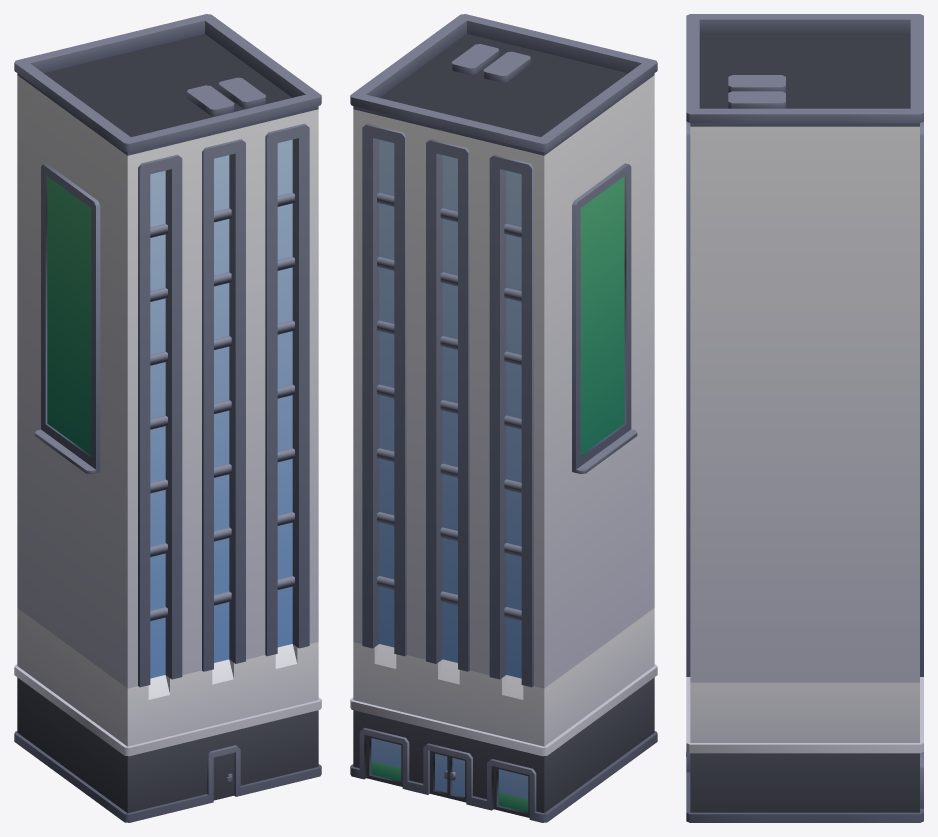
File: building-skyscraper-e.glb
3 views of the same model, side by side, from view 1: azimuth 30°, elevation 25°; view 2: azimuth 150°, elevation 25°; view 3: azimuth 270°, elevation 25° (orthographic). The views are drawn at different scales.
Parts seen in each view (by area): view 1: building-skyscraper-e; view 2: building-skyscraper-e; view 3: building-skyscraper-e.
Boxes of the visible parts, left/top/right/bottom form: building-skyscraper-e: left=14, top=14, right=321, bottom=822; building-skyscraper-e: left=350, top=14, right=657, bottom=822; building-skyscraper-e: left=686, top=14, right=923, bottom=822.
Bounding box in the file's own units: 1.3 × 4.08 × 1.24.
Materials: 1 (1 with a texture image).
